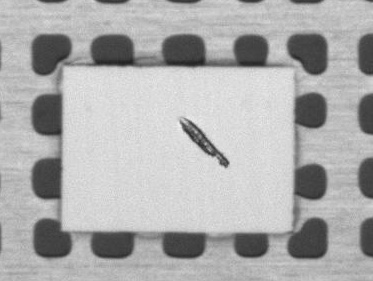DIE_INK: (178, 117, 229, 168)
